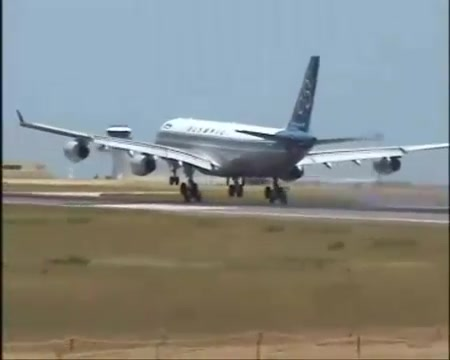aeroplane: (15, 57, 449, 208)
